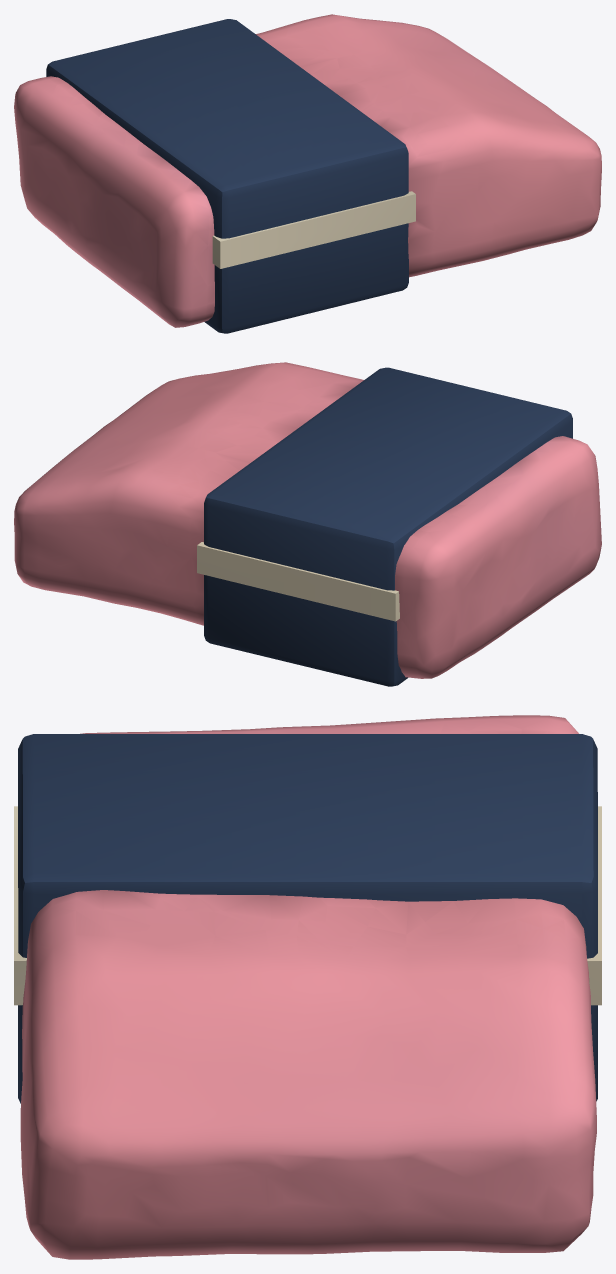
Rendered from frost_eraser.glb.
The picture shows the model from 3 angles, top to bottom: view 1: azimuth 30°, elevation 25°; view 2: azimuth 150°, elevation 25°; view 3: azimuth 270°, elevation 25°; orthographic projection. The views are drawn at different scales.
Parts seen in each view (by area): view 1: frost_eraser; view 2: frost_eraser; view 3: frost_eraser.
Boxes of the visible parts, x1,y1,x2,y2 form: frost_eraser: [14, 14, 601, 333]; frost_eraser: [14, 362, 601, 686]; frost_eraser: [14, 715, 601, 1259].
Size of the model in its own units: 5.07 by 1.65 by 3.6.
